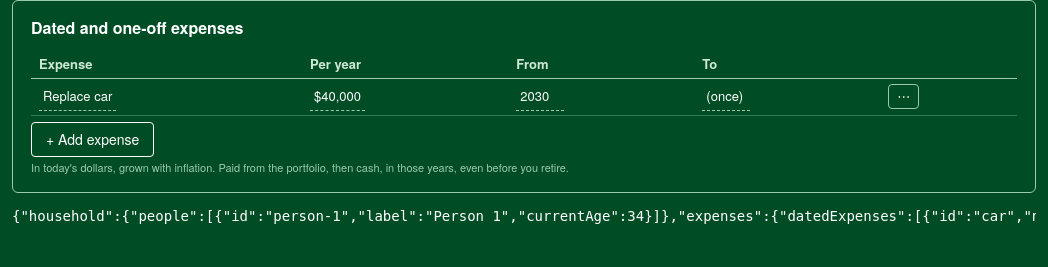
DatedExpensesSection › keeps the amount editor open with an error for invalid text, and rejects negatives
Click the button named "Per year for Replace car".
click(338, 97)  # box [310,83,365,111]
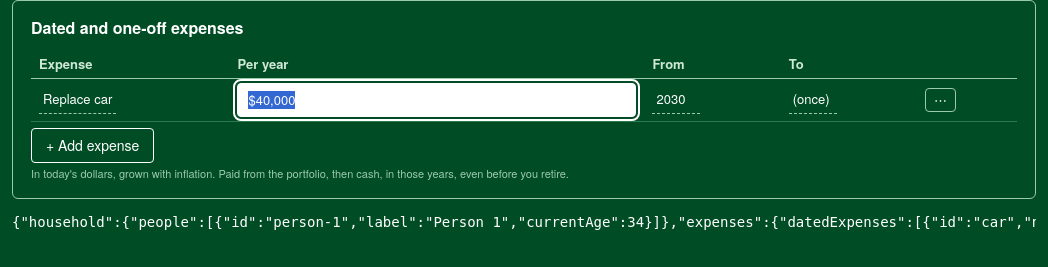
Type keys "abc{Enter}"
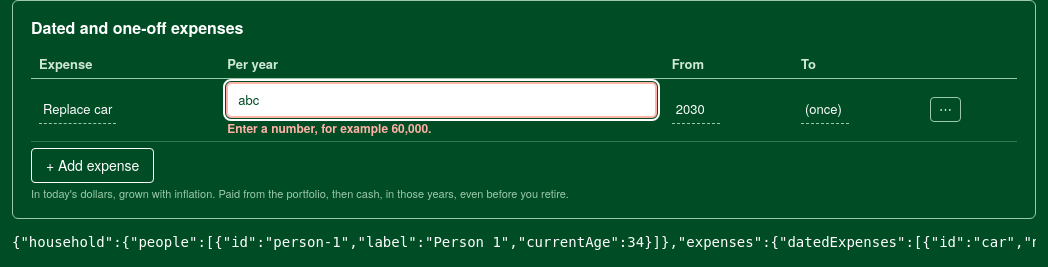
Check: the field named "Amount per year for Replace car" is shown, box [238,91,645,109]
Check: the text "Enter a number, for example 60,000." is shown, box [227,119,432,137]
